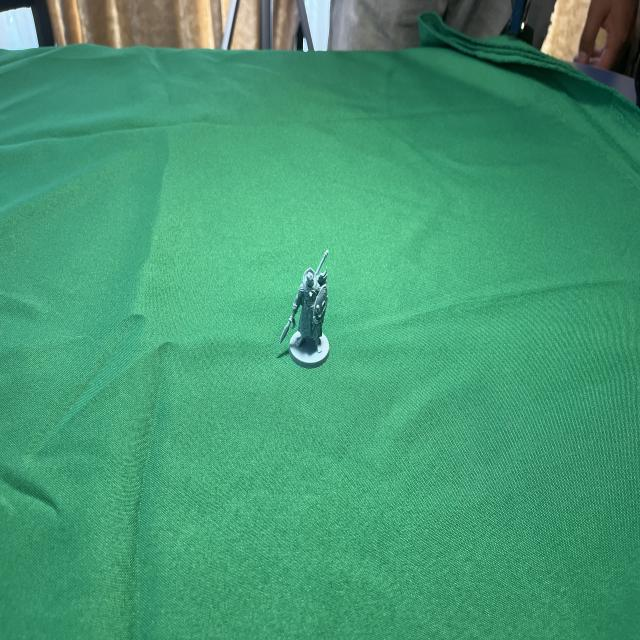isis_follower: (285, 267, 339, 367)
